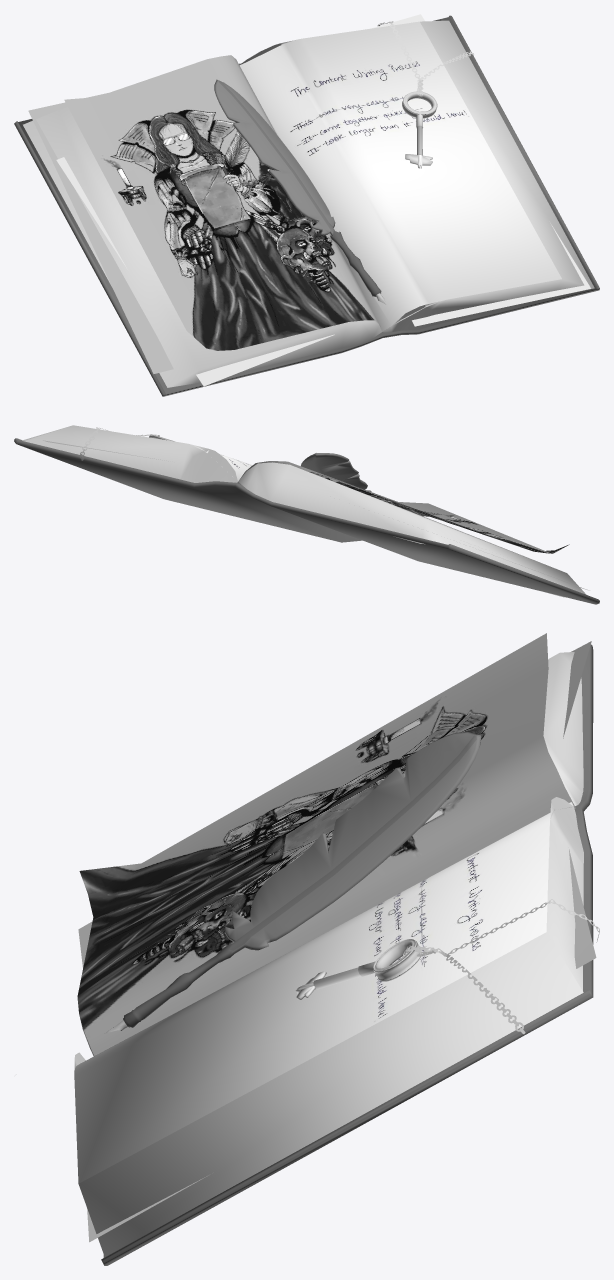
File: content.glb
3 views of the same model, one above another, from view 1: azimuth 30°, elevation 25°; view 2: azimuth 150°, elevation 25°; view 3: azimuth 270°, elevation 25° (orthographic). The views are drawn at different scales.
Parts seen in each view (by area): view 1: book.004; view 2: book.004; view 3: book.004.
Boxes of the visible parts, bbox=[...] form: book.004: bbox=[14, 14, 599, 396]; book.004: bbox=[14, 425, 599, 604]; book.004: bbox=[14, 633, 599, 1265].
Bounding box in the file's own units: 152 × 64.93 × 106.
14 materials, 6 textured.
